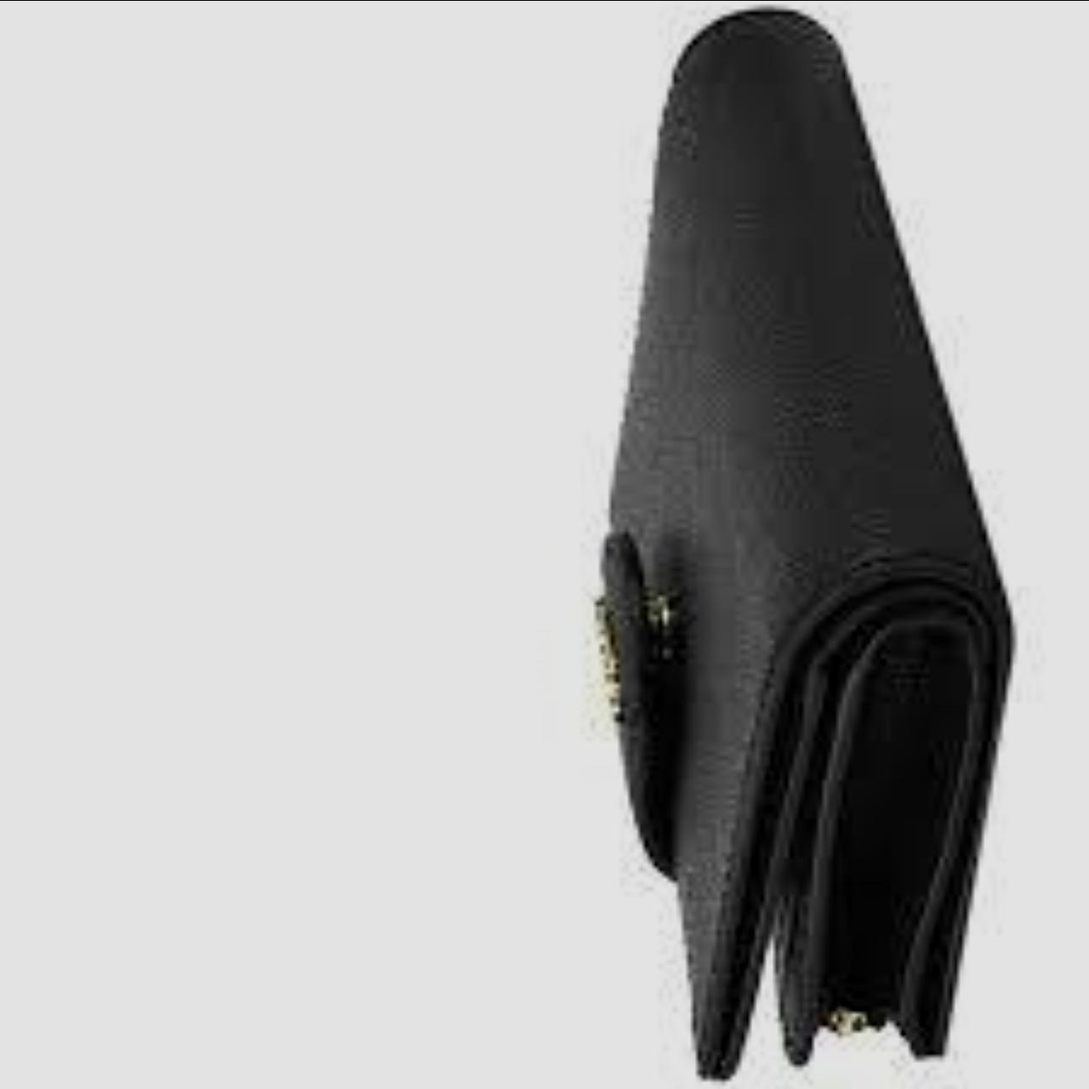wallet: (564, 0, 984, 1079)
